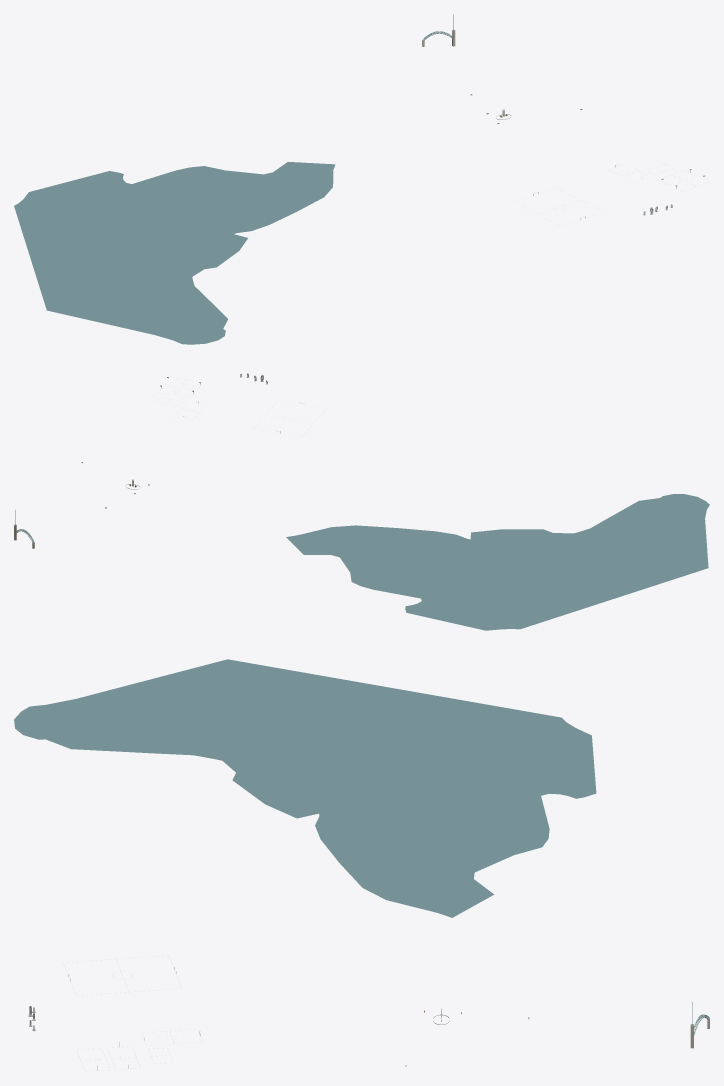
3 renders of one model, top to bottom at view 1: azimuth 30°, elevation 25°; view 2: azimuth 150°, elevation 25°; view 3: azimuth 270°, elevation 25°, orthographic. The views are drawn at different scales.
Parts seen in each view (by area): view 1: water_reservoir; view 2: water_reservoir; view 3: water_reservoir.
Boxes of the visible parts, box(x1,y1,x2,y2) form: water_reservoir: box(14, 162, 335, 344); water_reservoir: box(286, 494, 709, 630); water_reservoir: box(14, 659, 596, 917).
Size of the model in its own units: 610 by 38.18 by 413.
Materials: 14 (1 with a texture image).
